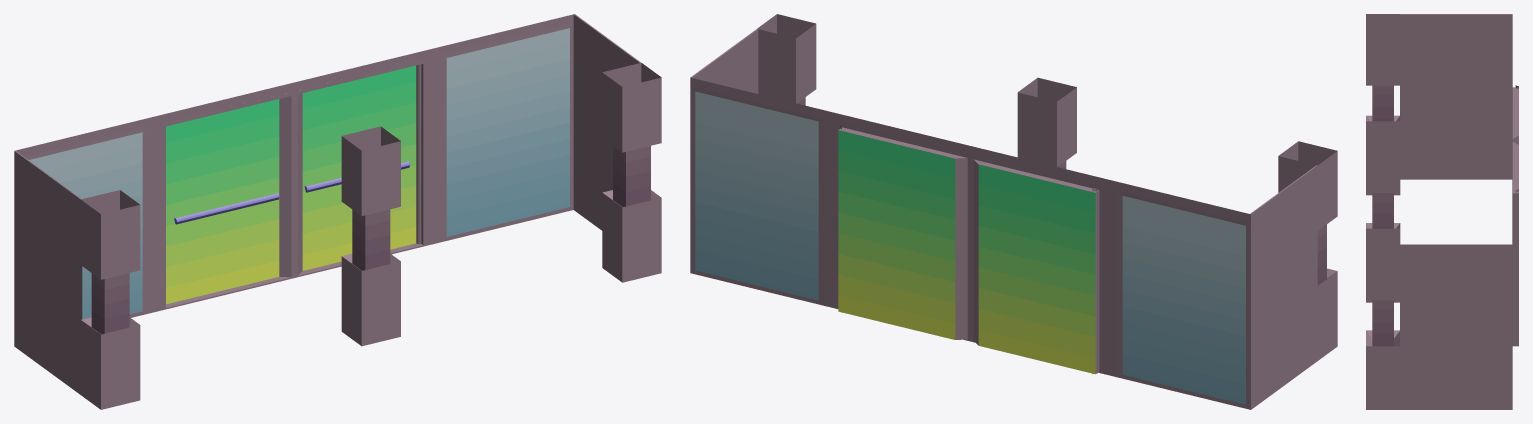
File: Skyscraper Inward Entrance Bottom.fbx
3 views of the same model, side by side, from view 1: azimuth 30°, elevation 25°; view 2: azimuth 150°, elevation 25°; view 3: azimuth 270°, elevation 25° (orthographic). The views are drawn at different scales.
Visible parts, largest first — view 1: pCube81; view 2: pCube81; view 3: pCube81.
Part boxes in pixels (bbox=[...]): pCube81: bbox=[14, 14, 661, 409]; pCube81: bbox=[690, 14, 1337, 409]; pCube81: bbox=[1366, 14, 1518, 409].
Size of the model in its own units: 691 by 230 by 193.
